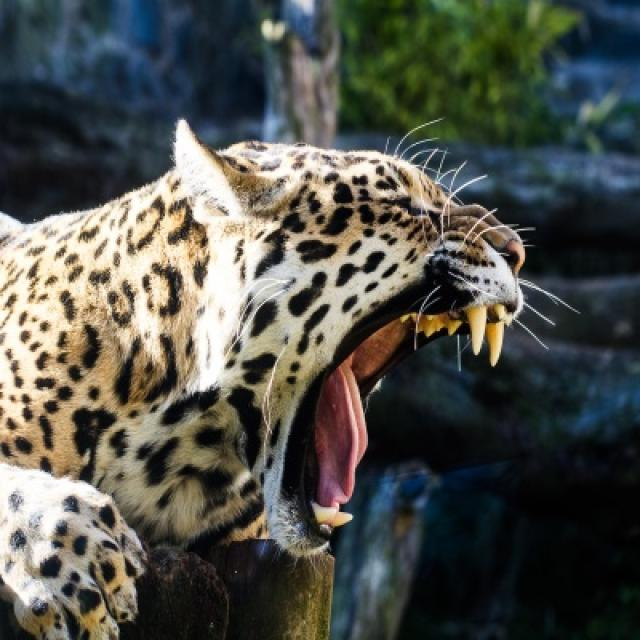Jaguar: (0, 120, 525, 638)
